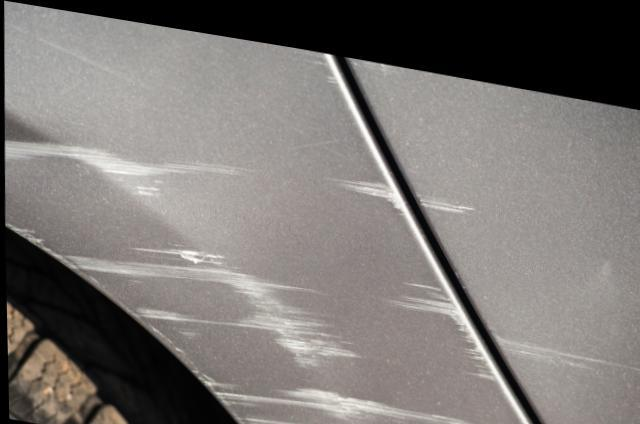scratch: (4, 134, 493, 424), (486, 304, 640, 354), (412, 173, 478, 199)
